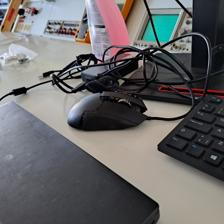mouse: (65, 90, 148, 132)
